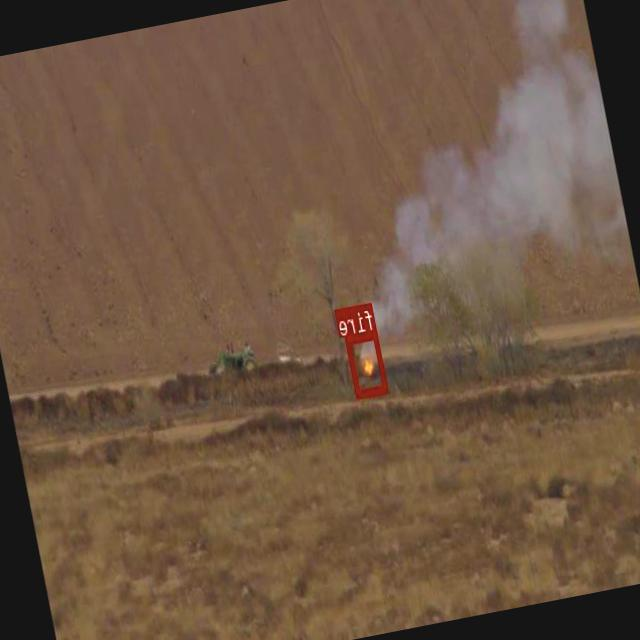fire: (346, 330, 389, 398)
